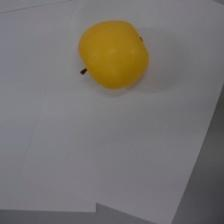yellow: (77, 19, 149, 89)
